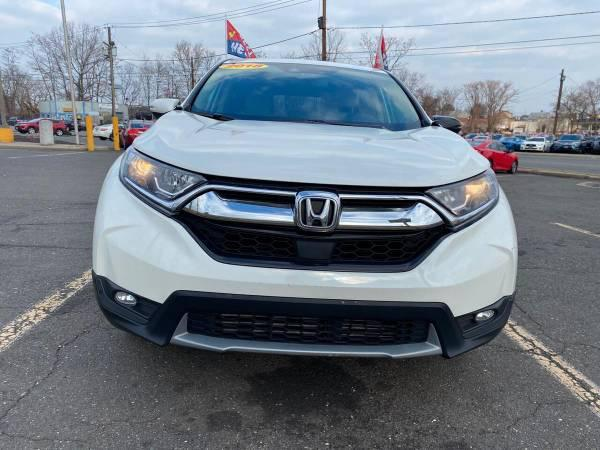Front_Bumper: (93, 160, 519, 355)
Front_Windshield: (182, 61, 425, 132)
Grille: (171, 174, 452, 271)
Hood: (137, 106, 489, 188)
Left_Headlight: (425, 164, 501, 230)
Right_Headlight: (120, 149, 211, 215)
